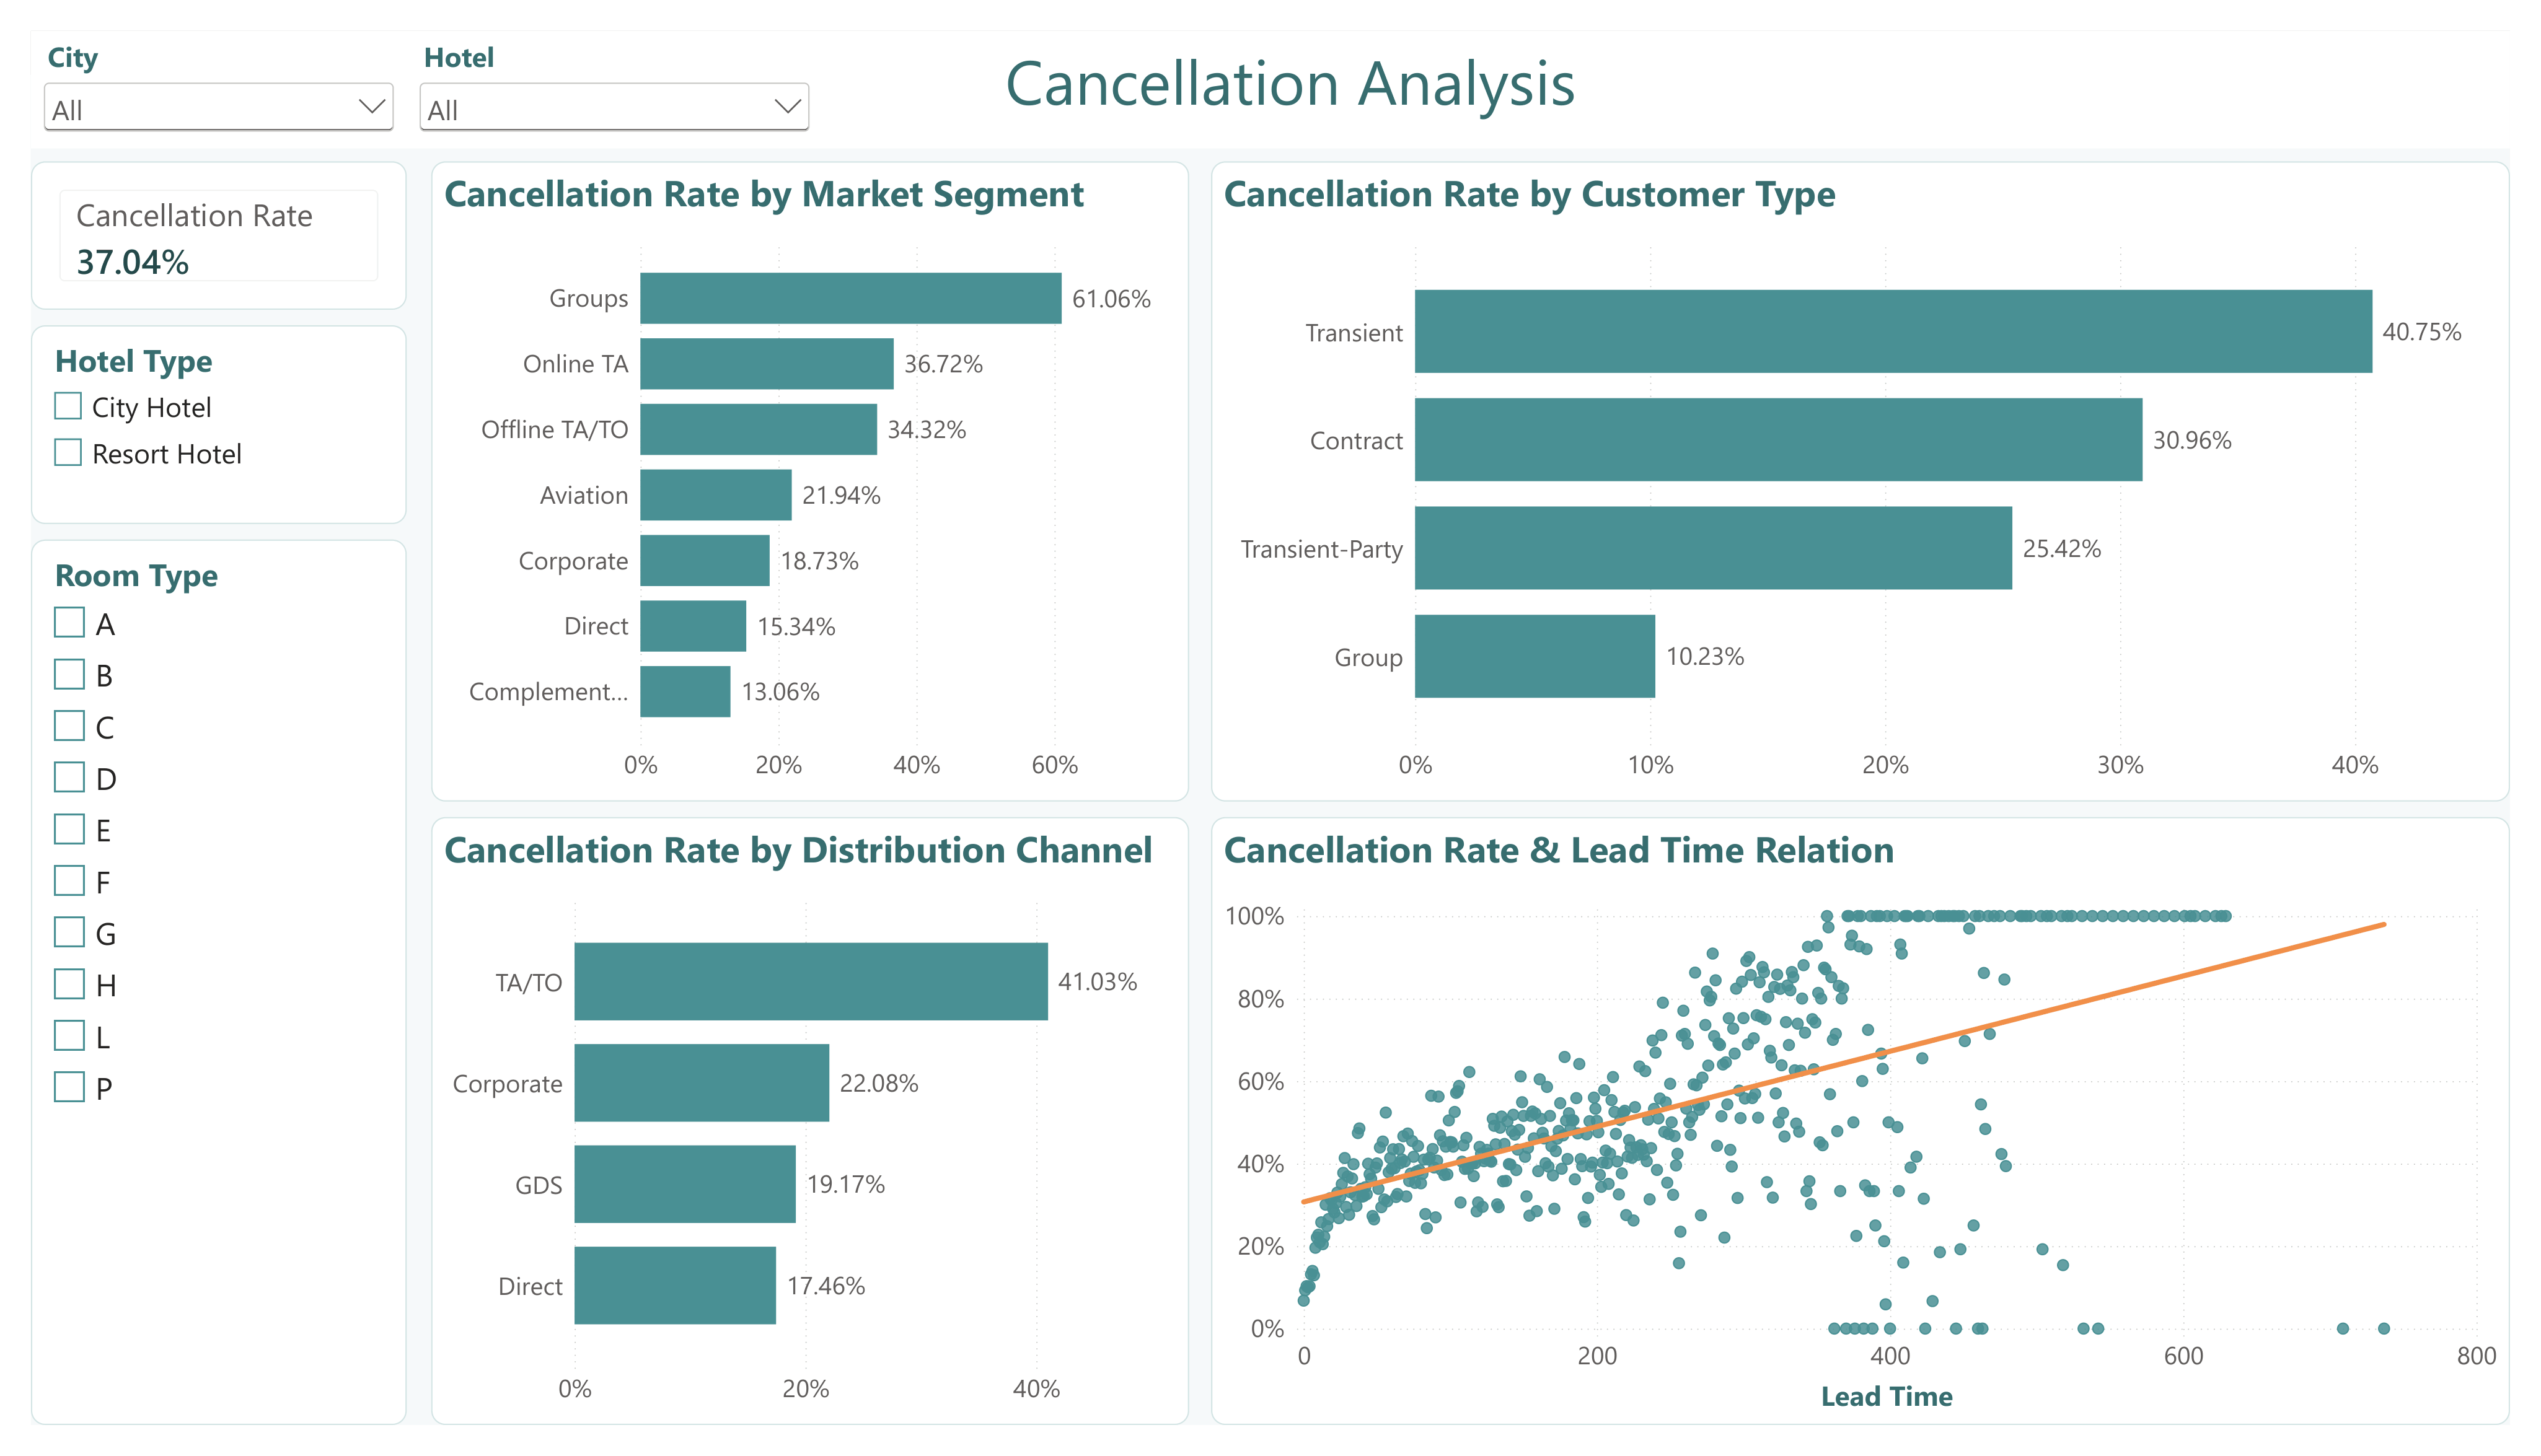

What the dashboard file says about the page in this screenshot:
{"tool":"powerbi","page":{"name":"Cancellation Analysis","canvas":[1920,1080],"ordinal":1},"visuals":[{"type":"textbox","box":[0,0,1920,90.9],"z":0},{"type":"slicer","fields":{"Values":["hotel bookings 2024.hotel"]},"box":[290.7,0,322,80.5],"z":1000},{"type":"slicer","fields":{"Values":["hotel bookings 2024.city"]},"box":[0,0,290.7,80.5],"z":2000},{"type":"clusteredBarChart","title":"Cancellation Rate by Market Segment","fields":{"Category":["hotel bookings 2024.market_segment"],"Y":["_Mesures.Cancellation Rate"]},"box":[310.3,101.1,586.3,495.4],"z":3000},{"type":"clusteredBarChart","title":"Cancellation Rate by Distribution Channel","fields":{"Category":["hotel bookings 2024.distribution_channel"],"Y":["_Mesures.Cancellation Rate"]},"box":[310.3,608.6,586.3,471.4],"z":4000},{"type":"cardVisual","fields":{"Data":["_Mesures.Cancellation Rate"]},"box":[0,101.1,291.4,114.9],"z":5000},{"type":"clusteredBarChart","title":"Cancellation Rate by Customer Type","fields":{"Category":["hotel bookings 2024.customer_type"],"Y":["_Mesures.Cancellation Rate"]},"box":[913.7,101.1,1006.3,495.4],"z":6000},{"type":"slicer","fields":{"Values":["hotel bookings 2024.Hotel Type"]},"box":[0,228,291.4,154.3],"z":7000},{"type":"slicer","fields":{"Values":["hotel bookings 2024.reserved_room_type"]},"box":[0,394.3,291.4,685.7],"z":8000},{"type":"scatterChart","title":"Cancellation Rate & Lead Time Relation","fields":{"X":["hotel bookings 2024.lead_time"],"Y":["_Mesures.Cancellation Rate"]},"box":[914,609,1006,471],"z":9000}]}

Visuals, with their boxes on the page's 1920x1080 design canvas (x1, y1, x2, y2). These are canvas units, not pixel positions in the 2541x1456 screenshot, which may show the page scaled, cropped or inside an application window:
textbox: 0, 0, 1920, 91
slicer - hotel bookings 2024.hotel: 291, 0, 613, 80
slicer - hotel bookings 2024.city: 0, 0, 291, 80
"Cancellation Rate by Market Segment" clusteredBarChart: 310, 101, 897, 596
"Cancellation Rate by Distribution Channel" clusteredBarChart: 310, 609, 897, 1080
cardVisual - _Mesures.Cancellation Rate: 0, 101, 291, 216
"Cancellation Rate by Customer Type" clusteredBarChart: 914, 101, 1920, 596
slicer - hotel bookings 2024.Hotel Type: 0, 228, 291, 382
slicer - hotel bookings 2024.reserved_room_type: 0, 394, 291, 1080
"Cancellation Rate & Lead Time Relation" scatterChart: 914, 609, 1920, 1080
